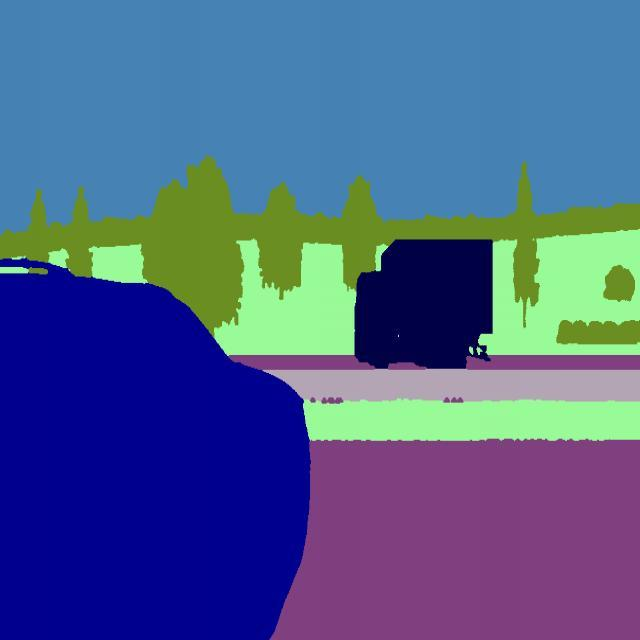safe: (352, 238, 493, 372)
unsafe: (0, 245, 314, 640)
